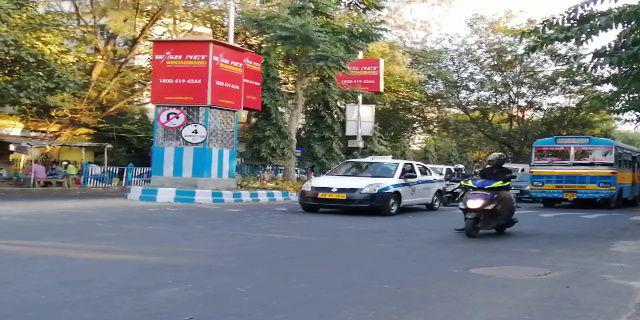Bus: (529, 133, 640, 210)
Car: (298, 154, 450, 221)
Motorbike: (455, 147, 521, 243)
